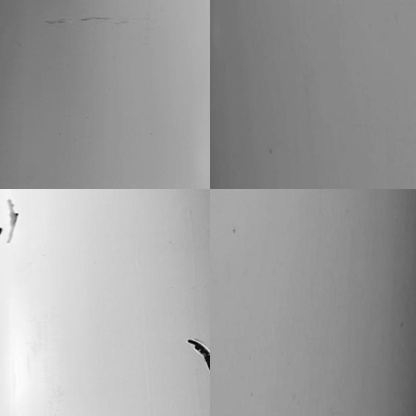kongdong: (186, 338, 213, 368), (5, 199, 22, 243)
